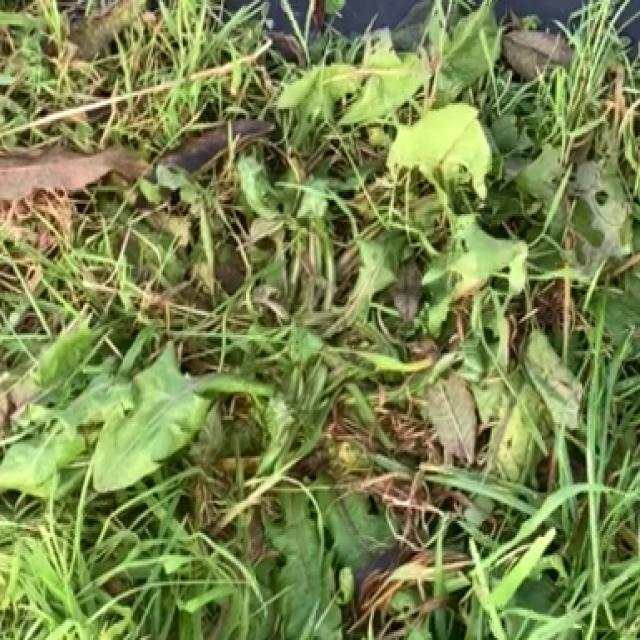organic waste: (224, 28, 612, 396), (0, 307, 439, 616)
